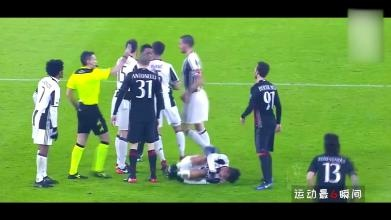falling: (161, 142, 239, 188)
